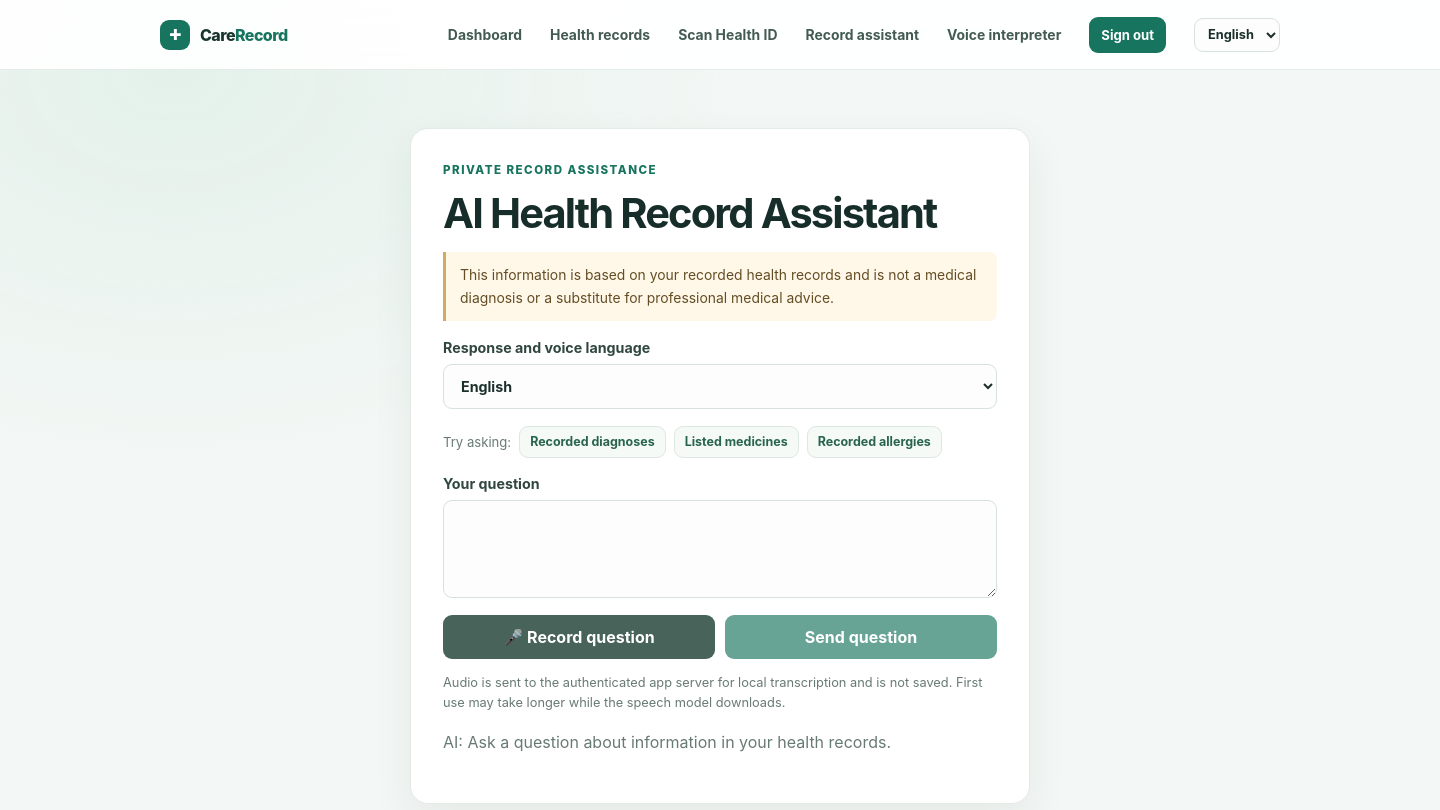
patient web flow › records and transcribes a te voice question locally
The image size is (1440, 810).
Select "Telugu" in the dropdown labelled "Response and voice language" at (720, 386), box [443,364,997,409]
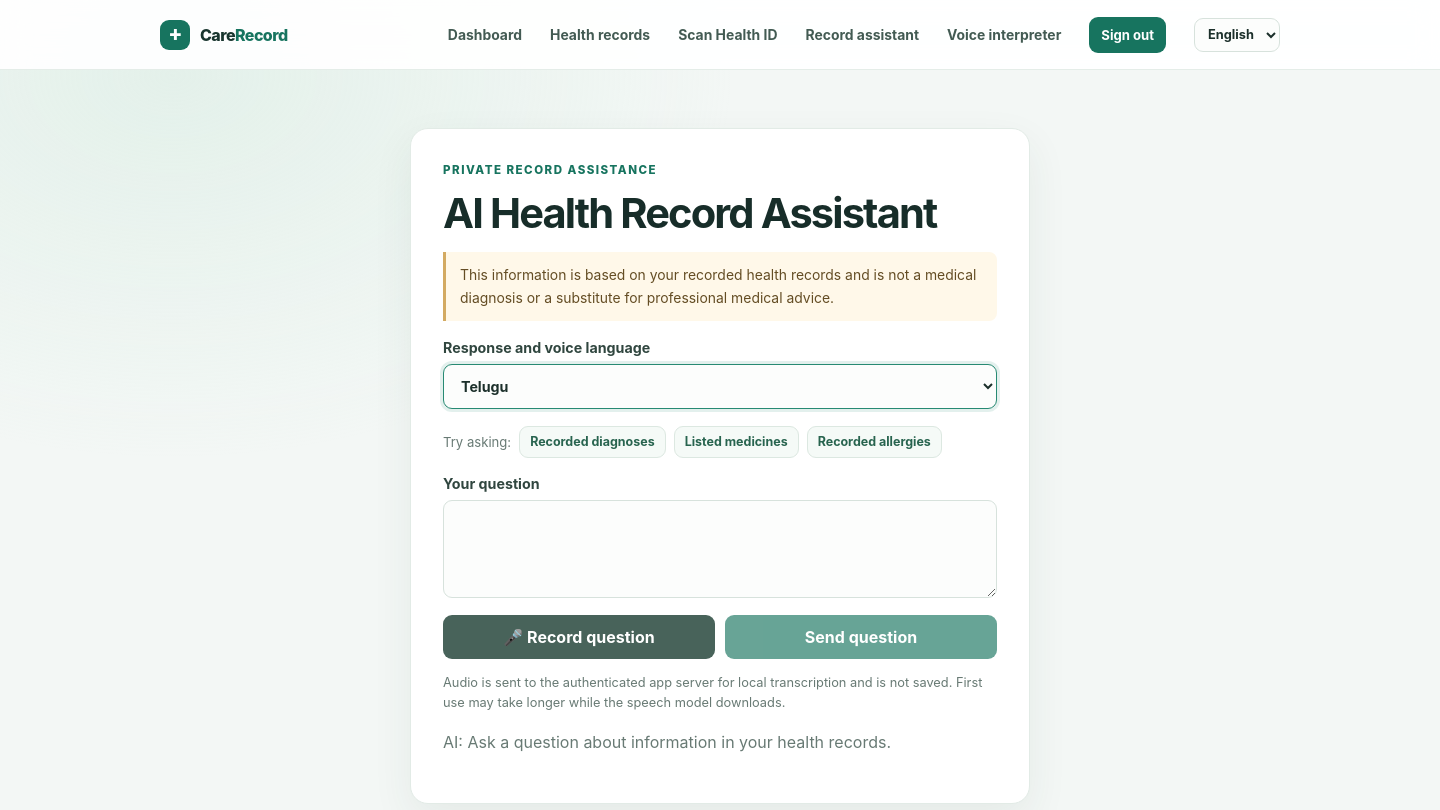
Click the button "🎤 Record question" at (579, 637), box [443,615,715,659]
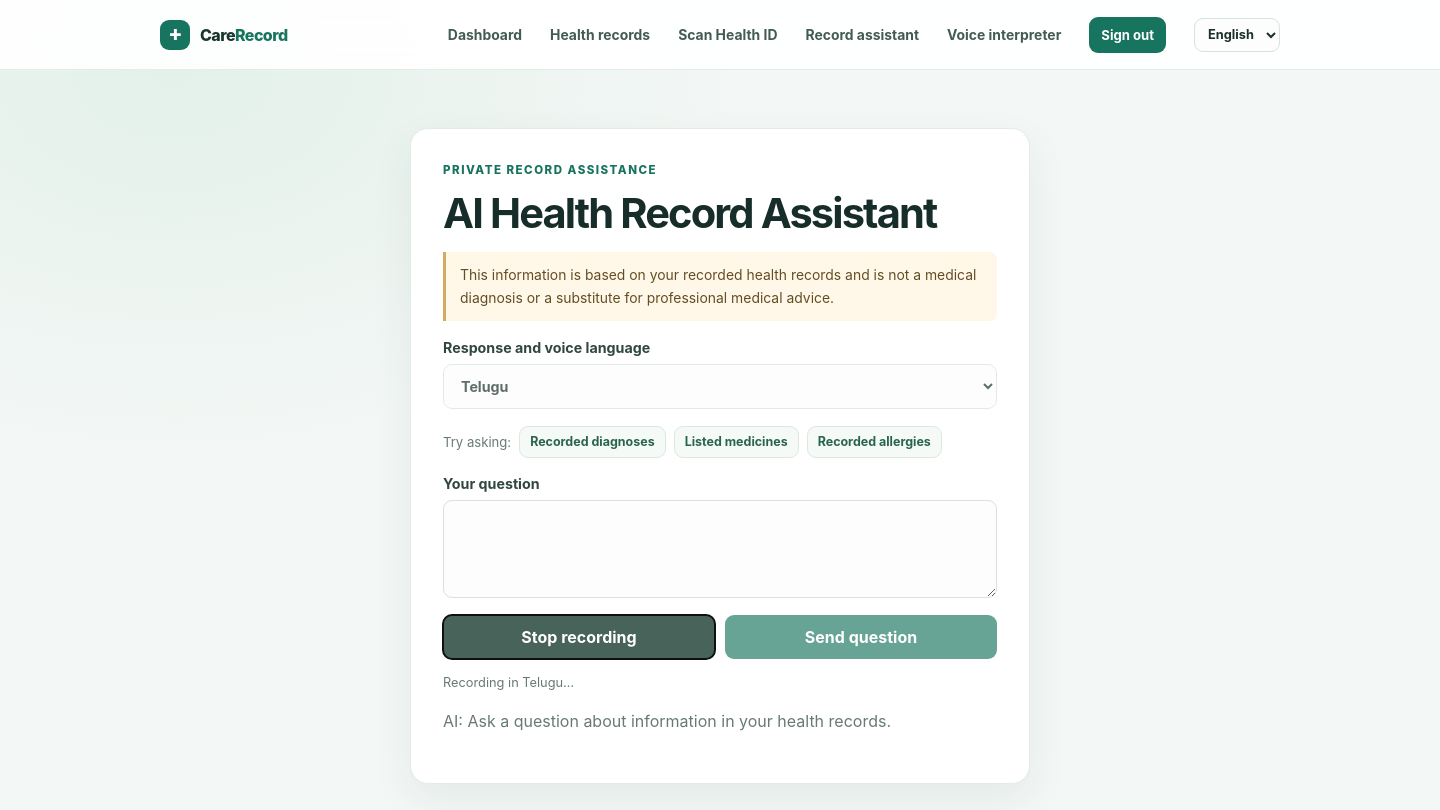
Result: the button "Stop recording" is shown
Click the button "Stop recording" at (579, 637), box [443,615,715,659]
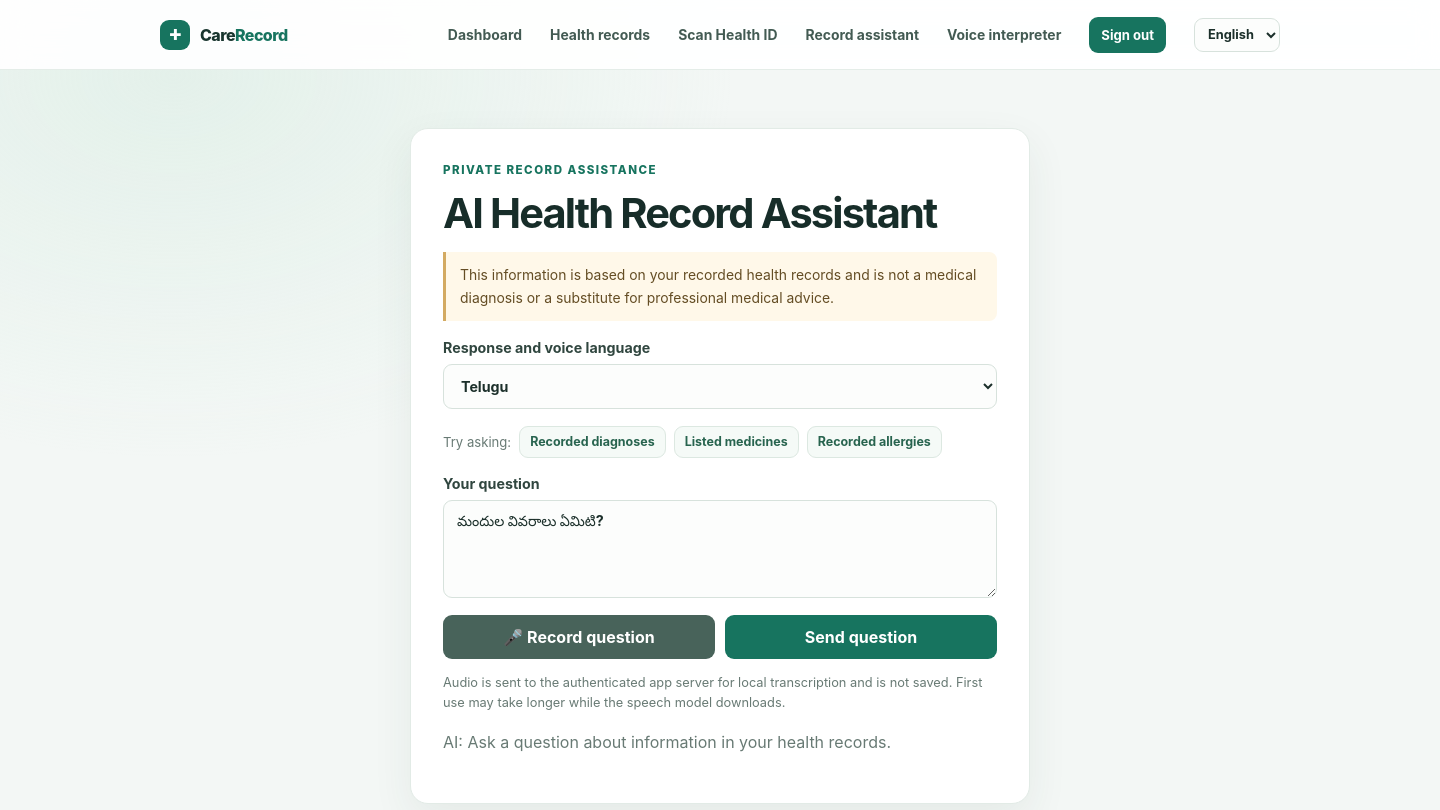
Result: the text box labelled "Your question" holds "మందుల వివరాలు ఏమిటి?" at [443,500,997,598]
